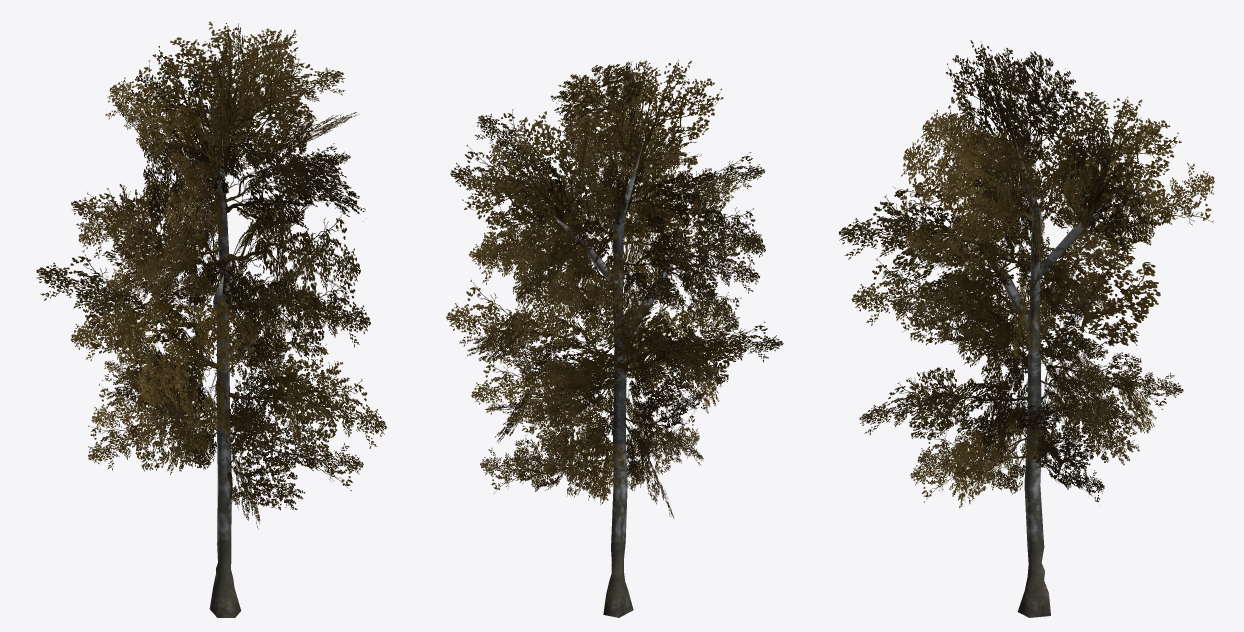
The model's file is tr_bush.glb.
The picture shows the model from 3 angles, left to right: view 1: azimuth 30°, elevation 25°; view 2: azimuth 150°, elevation 25°; view 3: azimuth 270°, elevation 25°; orthographic projection. The views are drawn at different scales.
Parts seen in each view (by area): view 1: body|Tree_Branches_02, body|Tree_Trunk_02; view 2: body|Tree_Branches_02, body|Tree_Trunk_02; view 3: body|Tree_Branches_02, body|Tree_Trunk_02.
Part boxes in pixels (<box>): body|Tree_Branches_02: <box>36,21,386,529</box>; body|Tree_Trunk_02: <box>209,139,241,617</box>; body|Tree_Branches_02: <box>446,60,783,518</box>; body|Tree_Trunk_02: <box>554,144,682,617</box>; body|Tree_Branches_02: <box>838,40,1214,508</box>; body|Tree_Trunk_02: <box>976,130,1116,617</box>.
Bounding box in the file's own units: 3.97 × 7.12 × 4.6.
2 materials, 2 textured.
